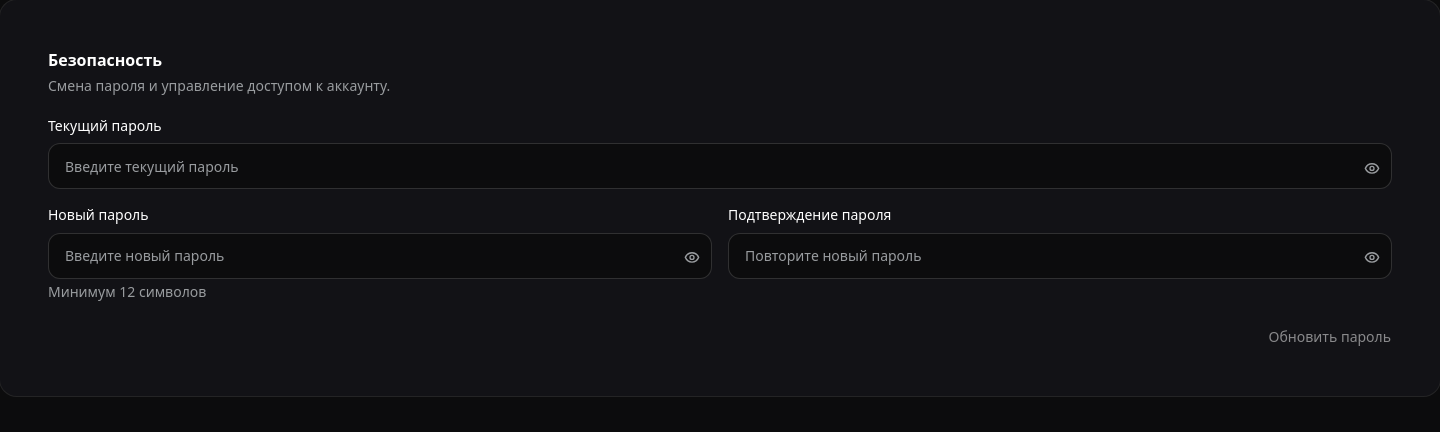
Scenario: ChangePasswordSection › обрабатывает 400 ошибку (новый пароль совпадает с текущим)
Type "SamePassword123!" into the password field with placeholder "Введите текущий пароль".
click(720, 166); type("SamePassword123!")  # box [48, 143, 1392, 189]
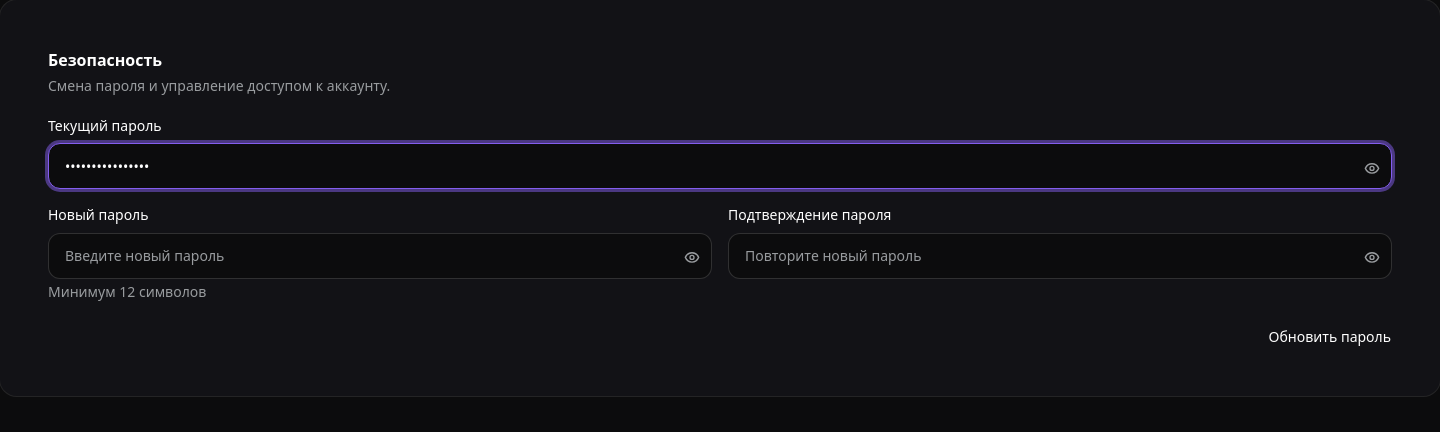
Type "SamePassword123!" into the password field with placeholder "Введите новый пароль".
click(380, 256); type("SamePassword123!")  # box [48, 232, 712, 278]
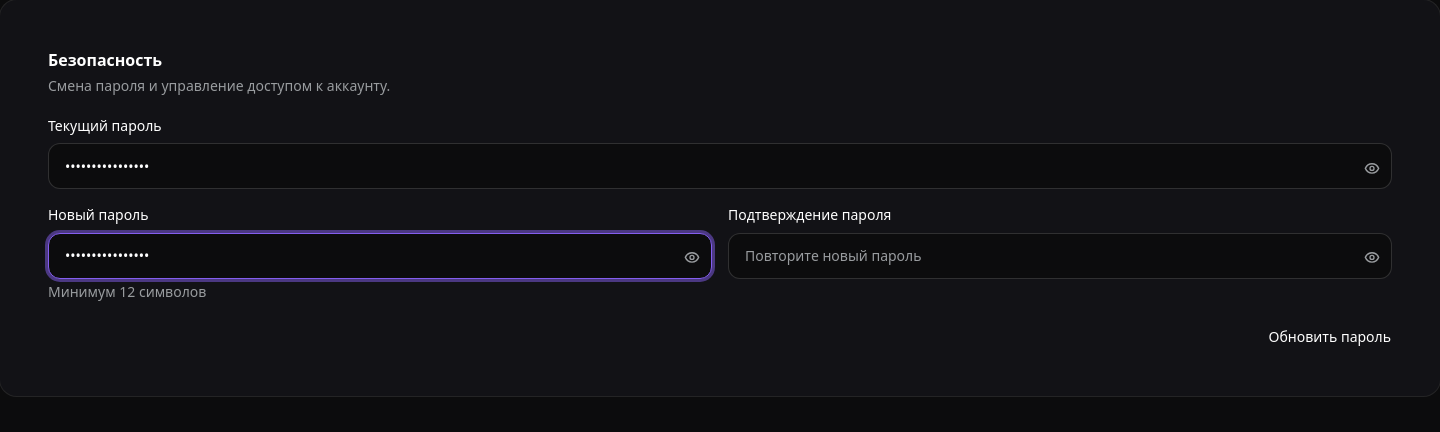
Type "SamePassword123!" into the password field with placeholder "Повторите новый пароль".
click(1060, 256); type("SamePassword123!")  # box [728, 232, 1392, 278]
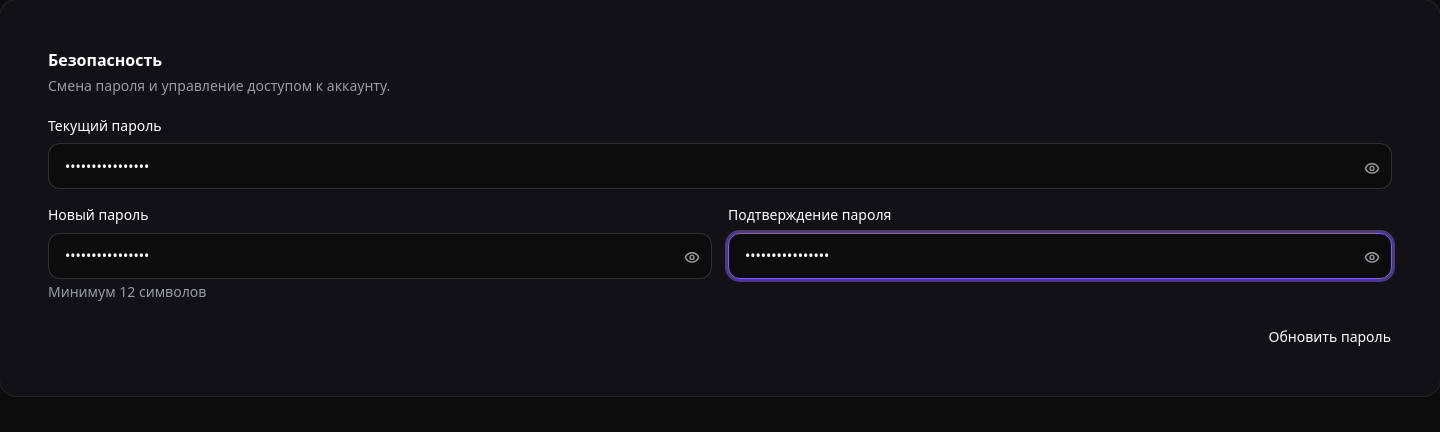
Click the button "Обновить пароль".
click(1330, 336)  # box [1268, 326, 1392, 348]
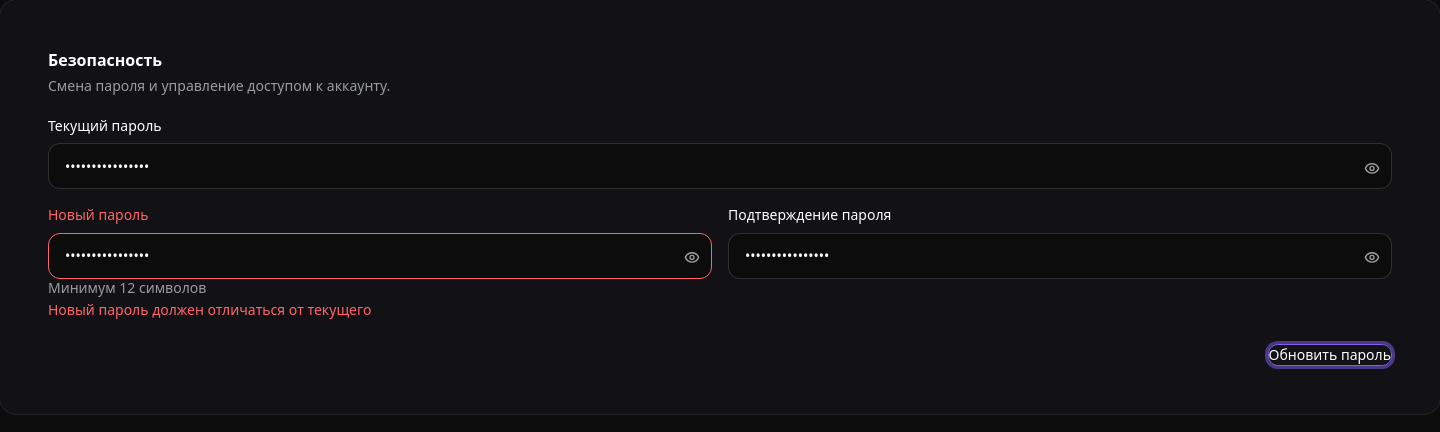
Now the text "Новый пароль должен отличаться от текущего" is shown, box [48, 300, 371, 318]
